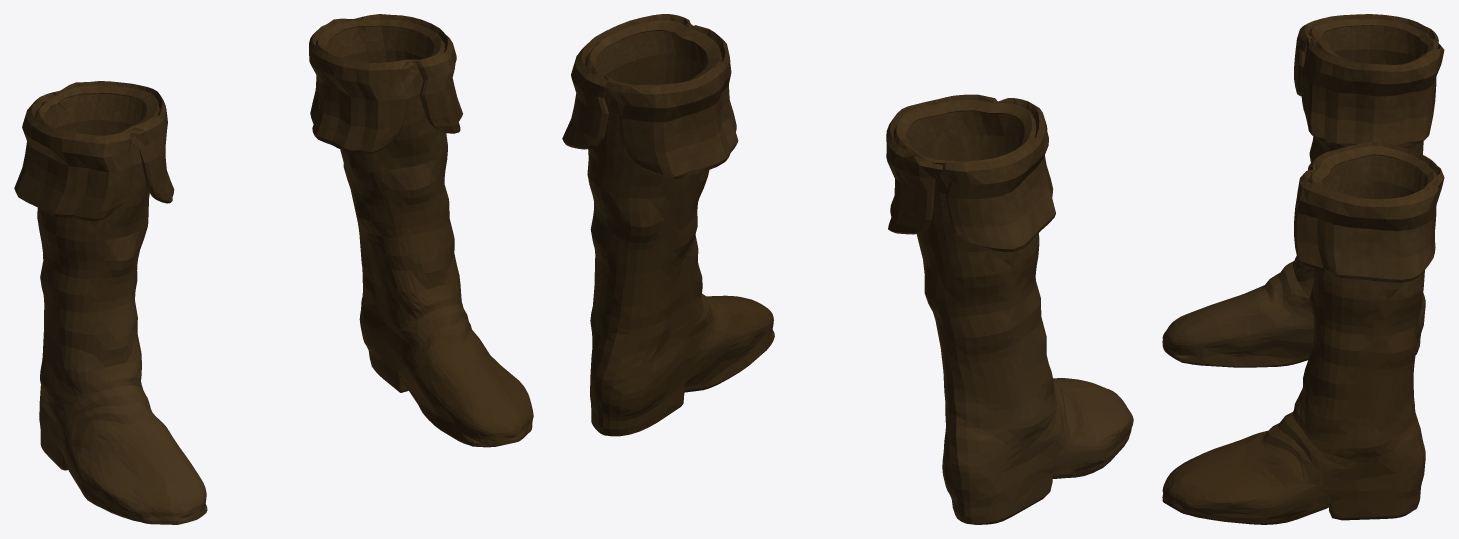
File: mhw_culturalibre_male_boots.glb
The picture shows the model from 3 angles, left to right: view 1: azimuth 30°, elevation 25°; view 2: azimuth 150°, elevation 25°; view 3: azimuth 270°, elevation 25°; orthographic projection. The views are drawn at different scales.
Parts seen in each view (by area): view 1: mhw_culturalibre_male_boots; view 2: mhw_culturalibre_male_boots; view 3: mhw_culturalibre_male_boots.
Boxes of the visible parts, left/top/right/bottom form: mhw_culturalibre_male_boots: left=14, top=14, right=533, bottom=524; mhw_culturalibre_male_boots: left=562, top=14, right=1133, bottom=524; mhw_culturalibre_male_boots: left=1162, top=14, right=1444, bottom=524.
Bounding box in the file's own units: 0.5557 × 0.4279 × 0.3312.
Materials: 1 (1 with a texture image).
